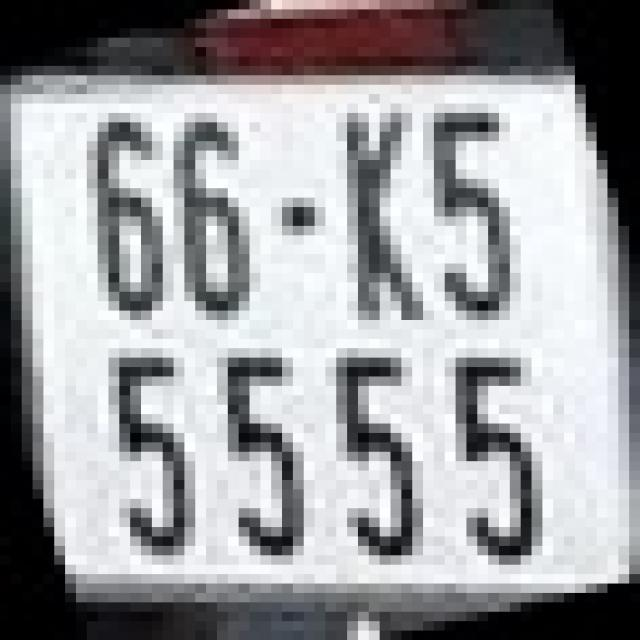5: (456, 358, 542, 564), (336, 358, 423, 556), (217, 358, 304, 556), (108, 358, 195, 556), (434, 113, 510, 320)
6: (173, 122, 250, 320), (98, 122, 162, 320)
K: (347, 113, 423, 320)
